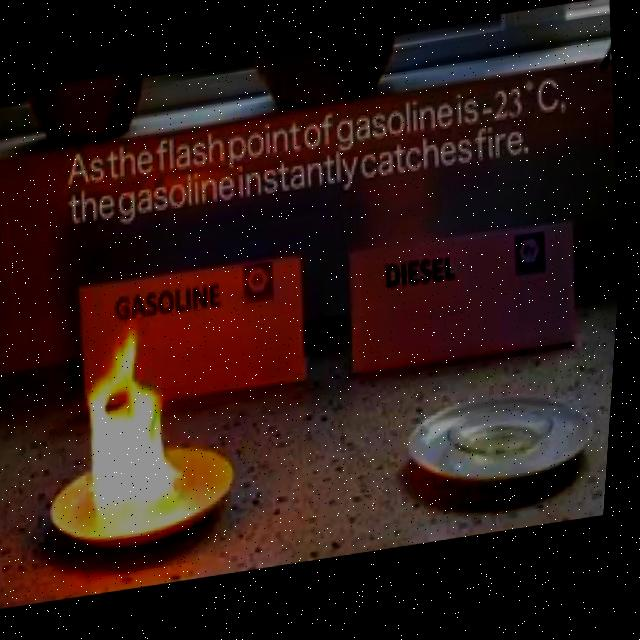Fire: (50, 314, 212, 535)
